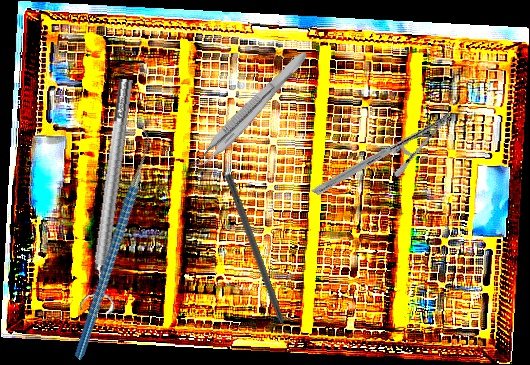Chopper: (4, 120, 218, 361)
Fixation Ring: (76, 76, 147, 316)
Hook Surgical: (222, 173, 298, 355)
Needle Holder: (311, 72, 455, 235)
Tissue Forceps: (186, 42, 311, 178)
